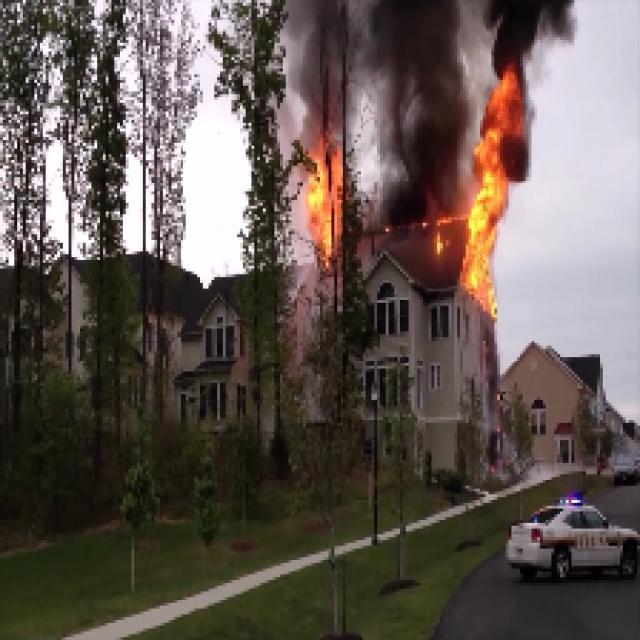Fire: (474, 82, 510, 298)
Smoke: (367, 1, 460, 194), (492, 0, 536, 75)
